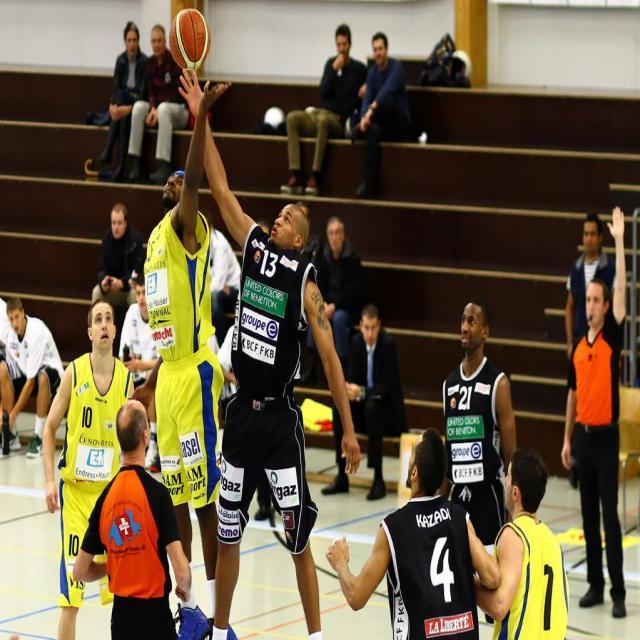rim: (170, 8, 210, 72)
